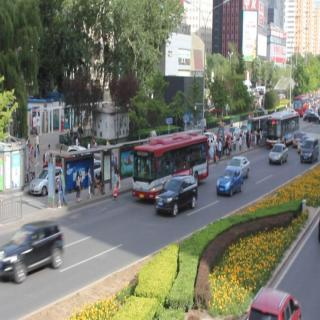Car: (137, 135, 211, 196), (0, 221, 63, 283), (248, 280, 301, 320), (157, 181, 201, 216), (214, 161, 243, 211), (268, 112, 302, 141), (300, 130, 319, 171), (228, 151, 253, 180), (269, 140, 288, 172)
